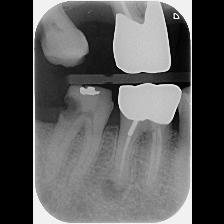apical_lesion: (95, 83, 183, 222)
